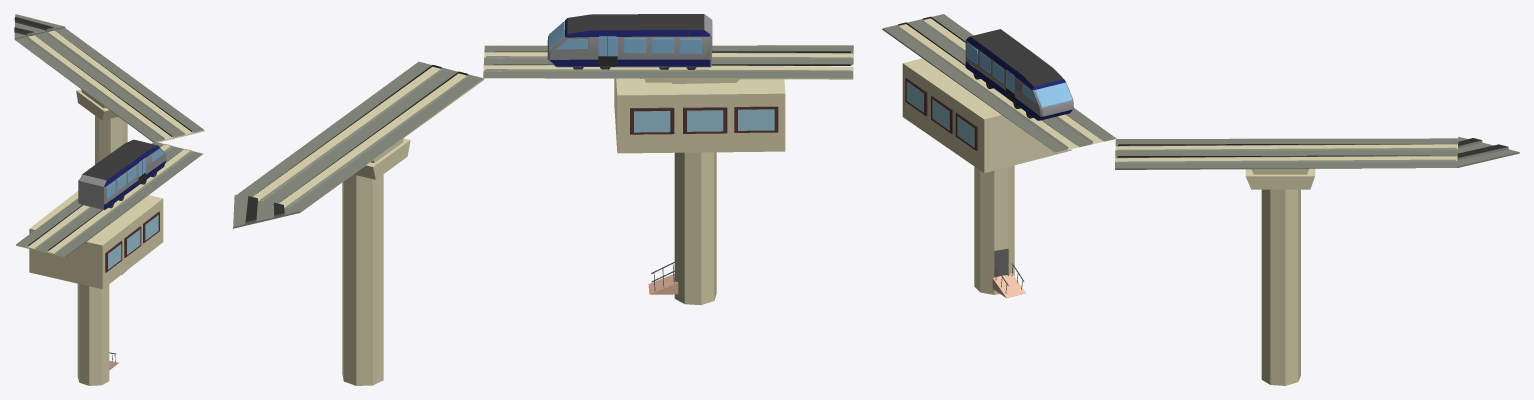
Rendered from metro.fbx.
3 renders of one model, left to right at view 1: azimuth 30°, elevation 25°; view 2: azimuth 150°, elevation 25°; view 3: azimuth 270°, elevation 25°, orthographic. The views are drawn at different scales.
Visible parts, largest first — view 1: Metro Station, pillar 1, Main metro.001, triangular track; view 2: Metro Station, pillar 1, Main metro.001, triangular track; view 3: Metro Station, pillar 1, Main metro.001, triangular track.
Part boxes in pixels (x1,y1,x2,y2): Metro Station: (16, 141, 203, 385); pillar 1: (15, 28, 204, 274); Main metro.001: (78, 139, 166, 210); triangular track: (14, 14, 65, 39); Metro Station: (483, 45, 853, 304); pillar 1: (237, 61, 484, 385); Main metro.001: (547, 14, 712, 69); triangular track: (233, 195, 299, 228); Metro Station: (882, 14, 1116, 298); pillar 1: (1115, 138, 1458, 385); Main metro.001: (965, 29, 1073, 120); triangular track: (1457, 136, 1519, 167).
Bounding box in the file's own units: 88.75 × 70.21 × 154.
